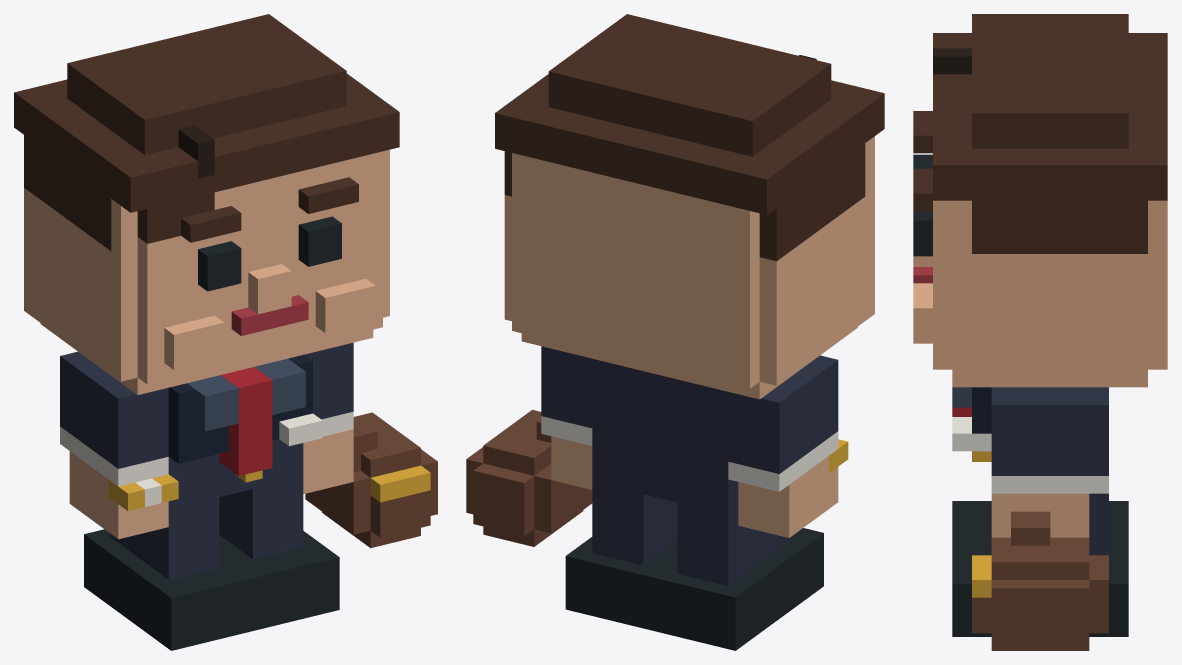
Rendered from corporate_boss.glb.
The picture shows the model from 3 angles, left to right: view 1: azimuth 30°, elevation 25°; view 2: azimuth 150°, elevation 25°; view 3: azimuth 270°, elevation 25°; orthographic projection.
Parts seen in each view (by area): view 1: head, torso, leg_left, arm_right, arm_left, leg_right; view 2: head, leg_left, torso, arm_right, arm_left, leg_right; view 3: head, arm_right, leg_right, torso, leg_left.
Part boxes in pixels (left/top/right/bottom): head: left=14, top=14, right=399, bottom=394; torso: left=168, top=354, right=322, bottom=509; leg_left: left=84, top=497, right=255, bottom=650; arm_right: left=303, top=342, right=437, bottom=548; arm_left: left=60, top=351, right=178, bottom=539; leg_right: left=219, top=477, right=339, bottom=630; head: left=495, top=14, right=884, bottom=399; leg_left: left=650, top=502, right=823, bottom=650; torso: left=592, top=358, right=738, bottom=514; arm_right: left=466, top=346, right=592, bottom=546; arm_left: left=728, top=355, right=848, bottom=537; leg_right: left=565, top=482, right=677, bottom=629; head: left=913, top=14, right=1167, bottom=387; arm_right: left=972, top=387, right=1108, bottom=650; leg_right: left=952, top=504, right=1128, bottom=636; torso: left=952, top=387, right=1108, bottom=504; leg_left: left=952, top=501, right=1128, bottom=542.
Bounding box in the file's own units: 1 × 1.5 × 0.65.
Materials: 1 (1 with a texture image).
